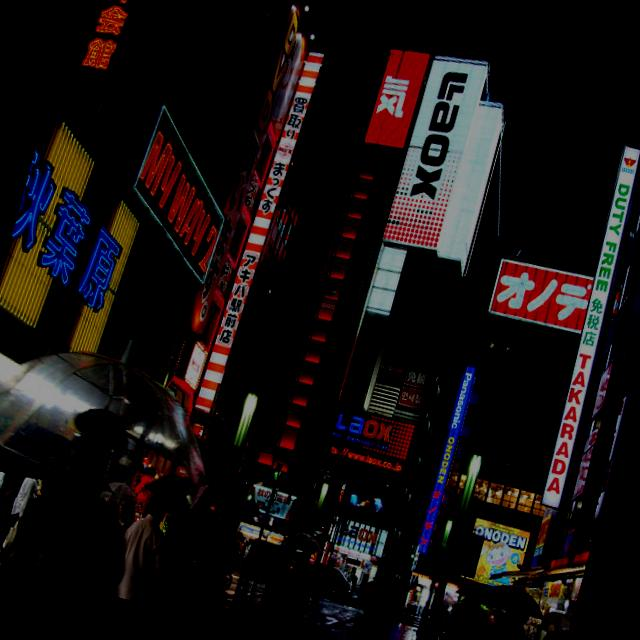Vehicle: (244, 537, 297, 580), (312, 562, 354, 596), (401, 600, 418, 614), (352, 582, 362, 596)
